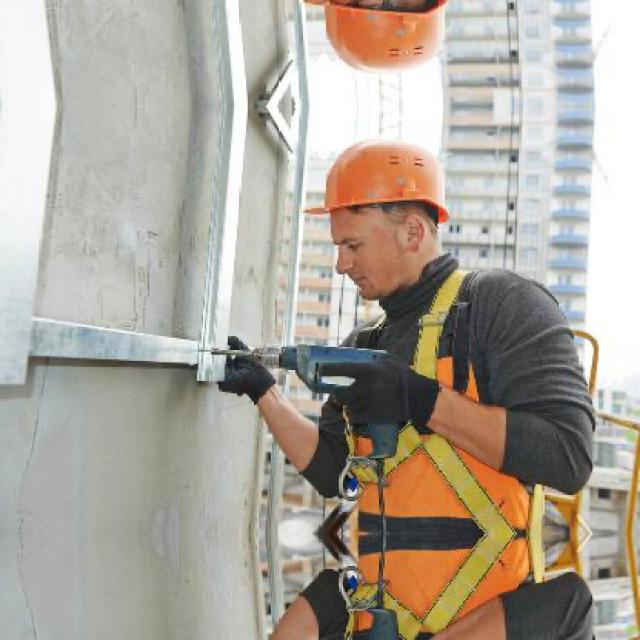helmet: (302, 120, 464, 310), (300, 0, 465, 94)
